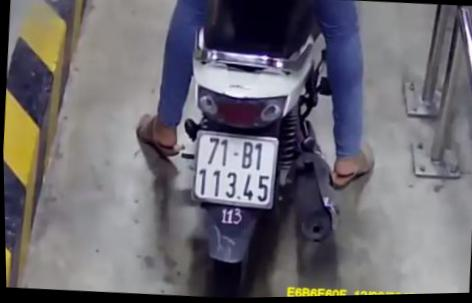LP: (186, 127, 281, 214)
